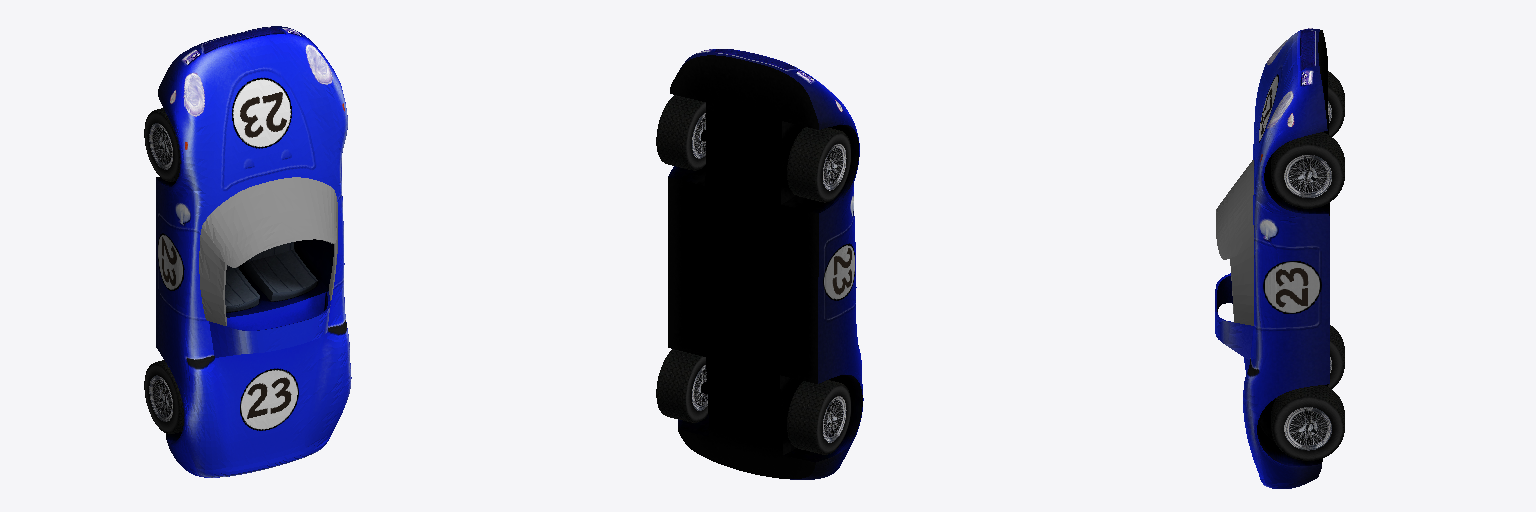
3 views of the same model, side by side, from view 1: azimuth 30°, elevation 25°; view 2: azimuth 150°, elevation 25°; view 3: azimuth 270°, elevation 25° (orthographic).
Parts seen in each view (by area): view 1: 10604_slot_car_blue, 10604_slot_car_red_glass; view 2: 10604_slot_car_blue; view 3: 10604_slot_car_blue, 10604_slot_car_red_glass.
Part boxes in pixels (x1,y1,x2,y2): 10604_slot_car_blue: (144,26,351,477); 10604_slot_car_red_glass: (199,177,337,325); 10604_slot_car_blue: (656,49,863,479); 10604_slot_car_blue: (1215,28,1344,488); 10604_slot_car_red_glass: (1216,160,1253,325).
Size of the model in its own units: 2.05 by 4.96 by 1.39.
Materials: 2 (1 with a texture image).